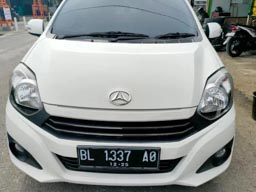plat: (78, 147, 159, 162)
